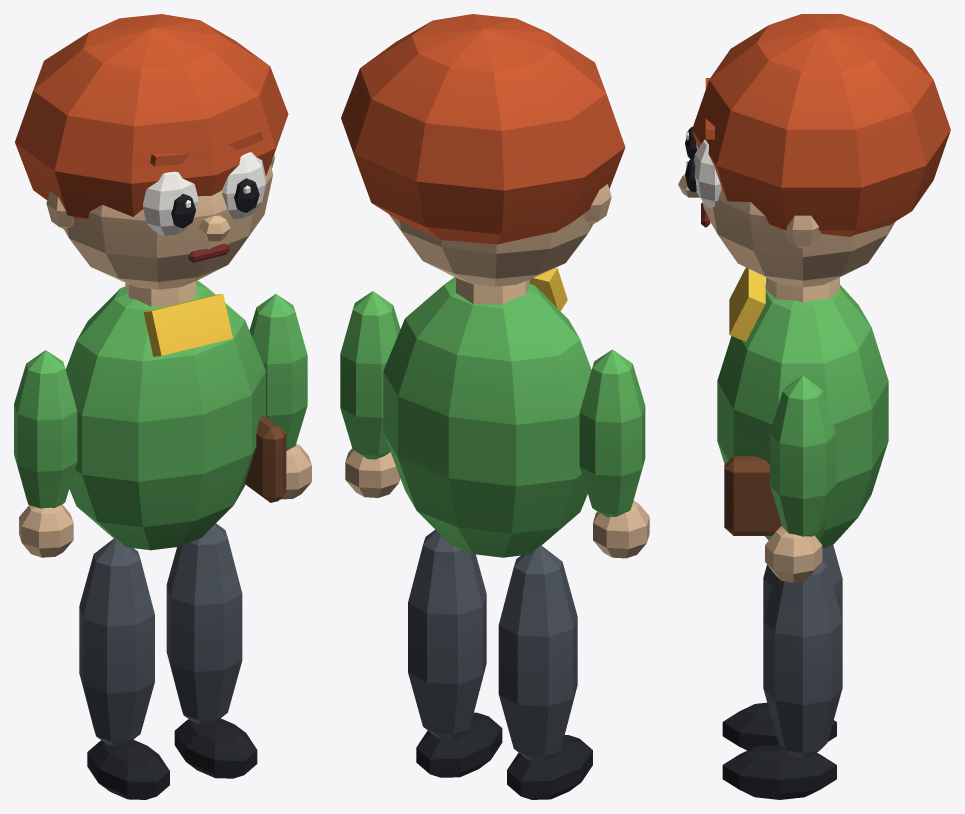
File: Passageiro_2.fbx
The picture shows the model from 3 angles, left to right: view 1: azimuth 30°, elevation 25°; view 2: azimuth 150°, elevation 25°; view 3: azimuth 270°, elevation 25°; orthographic projection. The views are drawn at different scales.
Visible parts, largest first — view 1: Cabeca, Corpo, Perna_D, Perna_E, Braco_D, Braco_E; view 2: Cabeca, Corpo, Perna_D, Perna_E, Braco_D, Braco_E; view 3: Cabeca, Corpo, Perna_E, Braco_E, Perna_D.
Boxes of the visible parts, x1,y1,x2,y2 form: Cabeca: (15, 14, 288, 289); Corpo: (65, 280, 286, 550); Perna_D: (79, 538, 169, 799); Perna_E: (166, 523, 257, 778); Braco_D: (14, 350, 77, 557); Braco_E: (249, 294, 311, 499); Cabeca: (341, 14, 625, 286); Corpo: (383, 267, 591, 557); Perna_D: (498, 545, 592, 799); Perna_E: (408, 529, 502, 777); Braco_D: (579, 349, 649, 558); Braco_E: (340, 291, 400, 497); Cabeca: (678, 14, 950, 287); Corpo: (717, 267, 888, 548); Perna_E: (722, 562, 842, 799); Braco_E: (765, 375, 835, 582); Perna_D: (722, 545, 842, 750).
Size of the model in its own units: 0.7236 by 1.77 by 0.59.
